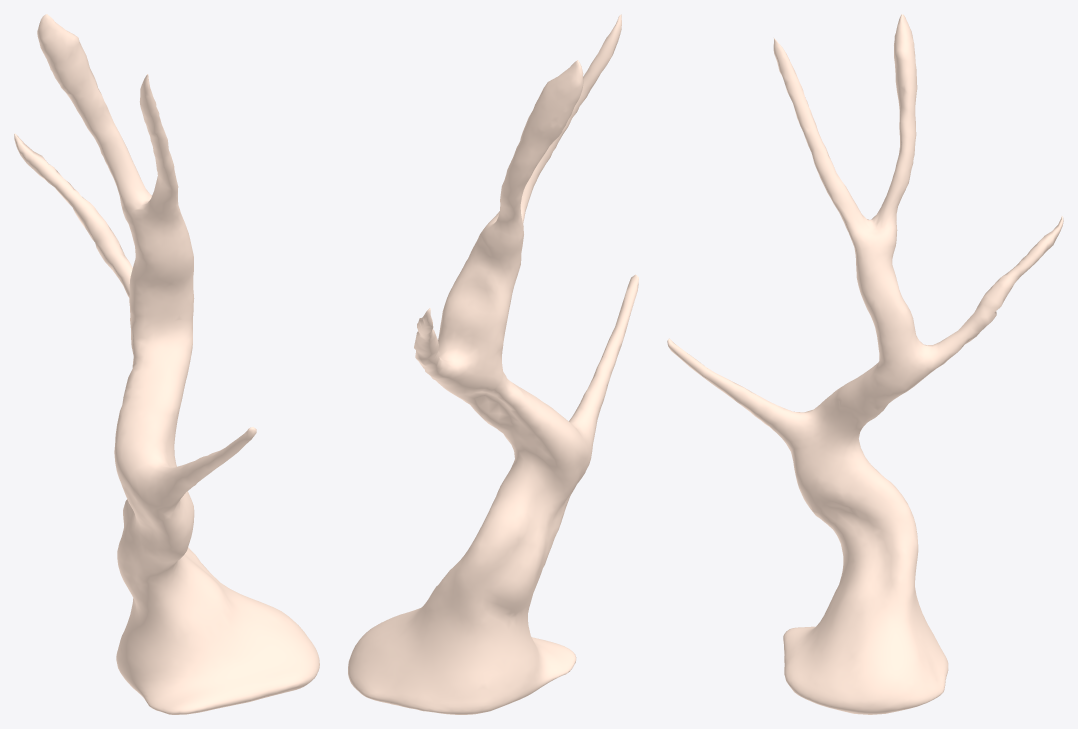
The model's file is wintertree2.glb.
3 renders of one model, left to right at view 1: azimuth 30°, elevation 25°; view 2: azimuth 150°, elevation 25°; view 3: azimuth 270°, elevation 25°, orthographic. The views are drawn at different scales.
Visible parts, largest first — view 1: Cube; view 2: Cube; view 3: Cube.
Boxes of the visible parts, <box> form: Cube: <box>14,14,319,714</box>; Cube: <box>348,14,638,714</box>; Cube: <box>667,14,1063,714</box>.
Bounding box in the file's own units: 2.03 × 5.44 × 3.21.
